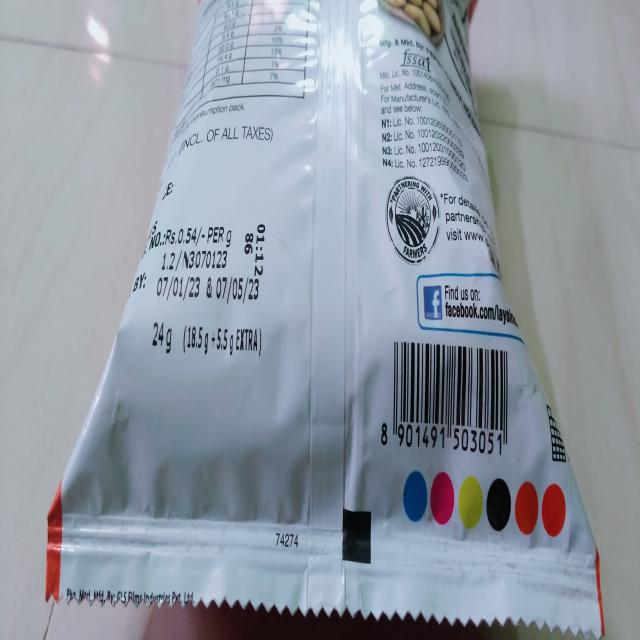lays: (47, 0, 566, 640)
